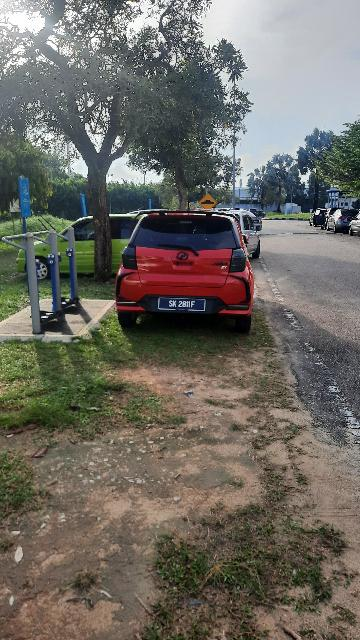License_Plate: (158, 293, 213, 315)
car: (110, 208, 264, 337)
